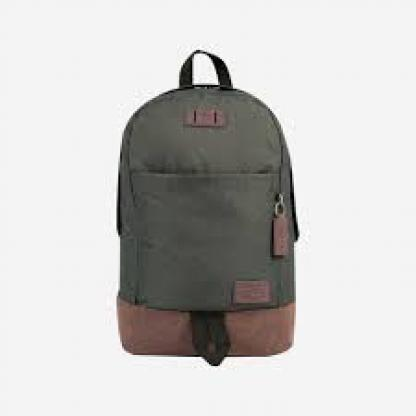morral: (96, 39, 320, 368)
